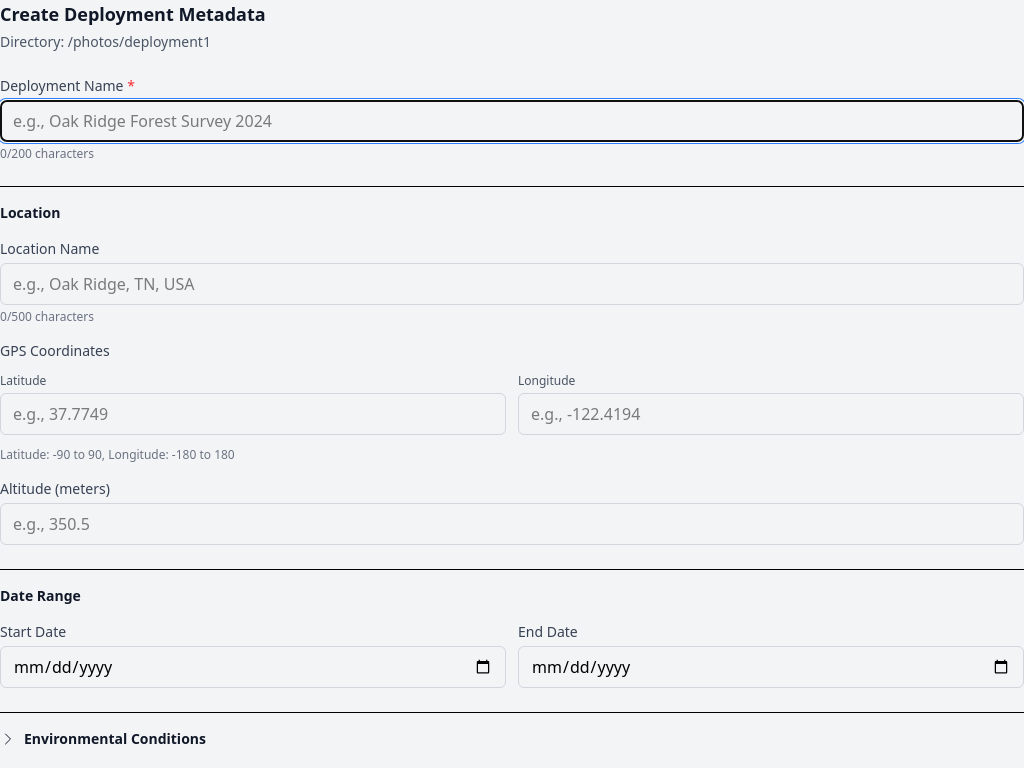
Test: DeploymentEditor › shows confirmation dialog when canceling with unsaved changes
The width and height of the screenshot is (1024, 768).
In the field labelled "Deployment Name *": x=512, y=121 [0, 100, 1023, 142], type "Test"
(page scrolled)
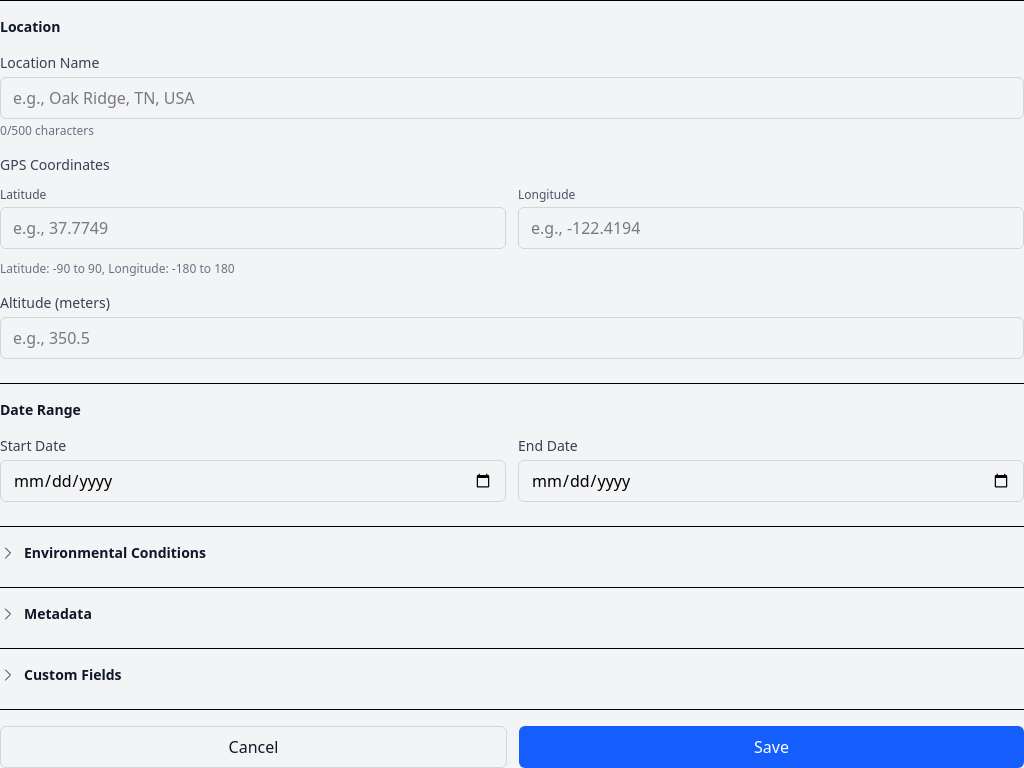
Click the button "Cancel": x=254, y=747 [0, 726, 507, 767]
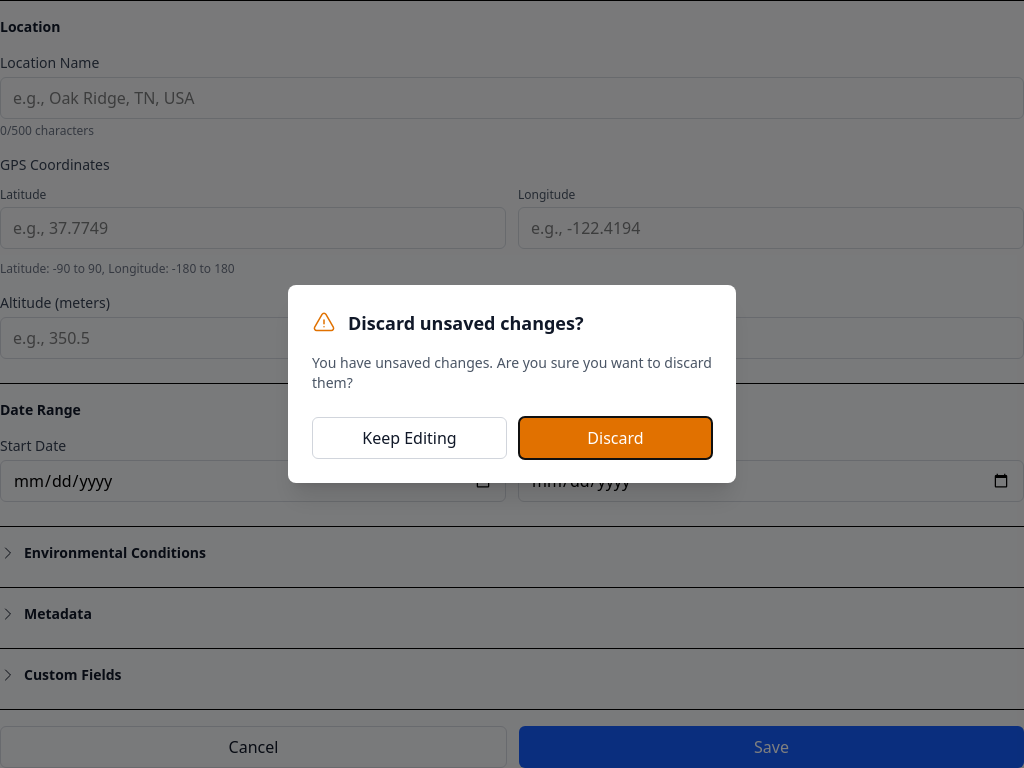
Now the dialog is shown, box [288, 285, 736, 483]
Now the heading "Discard unsaved changes?" is shown, box [348, 311, 584, 335]
Now the text "You have unsaved changes" is shown, box [312, 353, 712, 392]
Clicking "Keep Editing" should close dialog without calling onCancel
Click the button "Keep Editing": x=410, y=438 [312, 417, 507, 459]
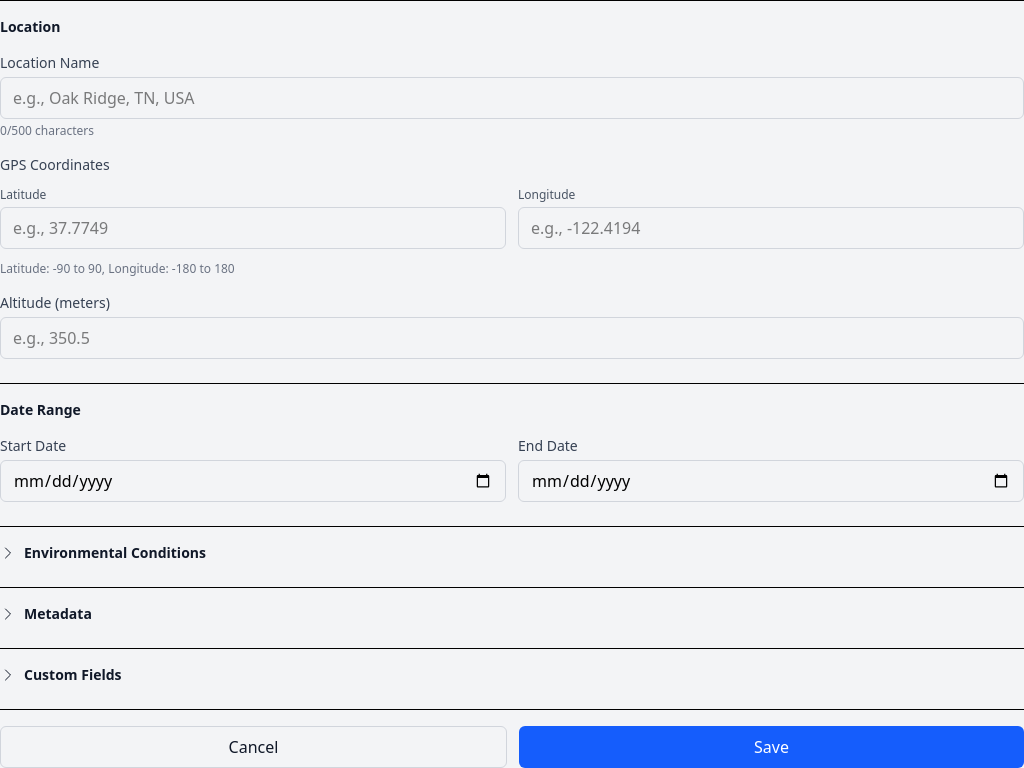
Now the dialog is gone
